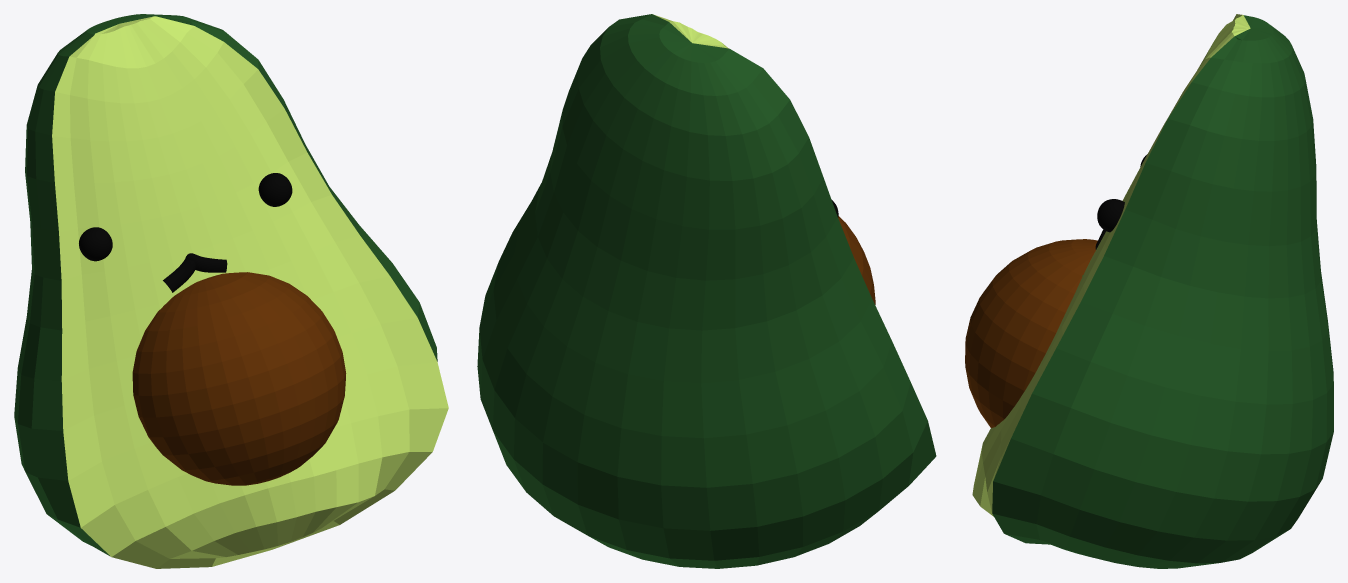
File: AvOwOcado (1).fbx
3 renders of one model, left to right at view 1: azimuth 30°, elevation 25°; view 2: azimuth 150°, elevation 25°; view 3: azimuth 270°, elevation 25°, orthographic. The views are drawn at different scales.
Visible parts, largest first — view 1: Sphere, Cube.010, eye.002, eye.001; view 2: Sphere; view 3: Sphere, eye.001.
Part boxes in pixels (left/top/right/bottom): Sphere: left=14, top=14, right=448, bottom=568; Cube.010: left=163, top=253, right=227, bottom=292; eye.002: left=79, top=227, right=112, bottom=261; eye.001: left=258, top=173, right=292, bottom=206; Sphere: left=477, top=14, right=936, bottom=568; Sphere: left=965, top=14, right=1333, bottom=568; eye.001: left=1097, top=199, right=1124, bottom=232.
Size of the model in its own units: 379 by 480 by 319.
